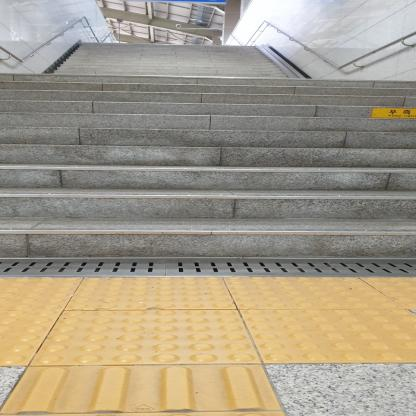stop: (27, 309, 265, 367), (239, 309, 416, 363), (221, 277, 408, 311), (63, 277, 238, 310), (0, 277, 86, 308)
